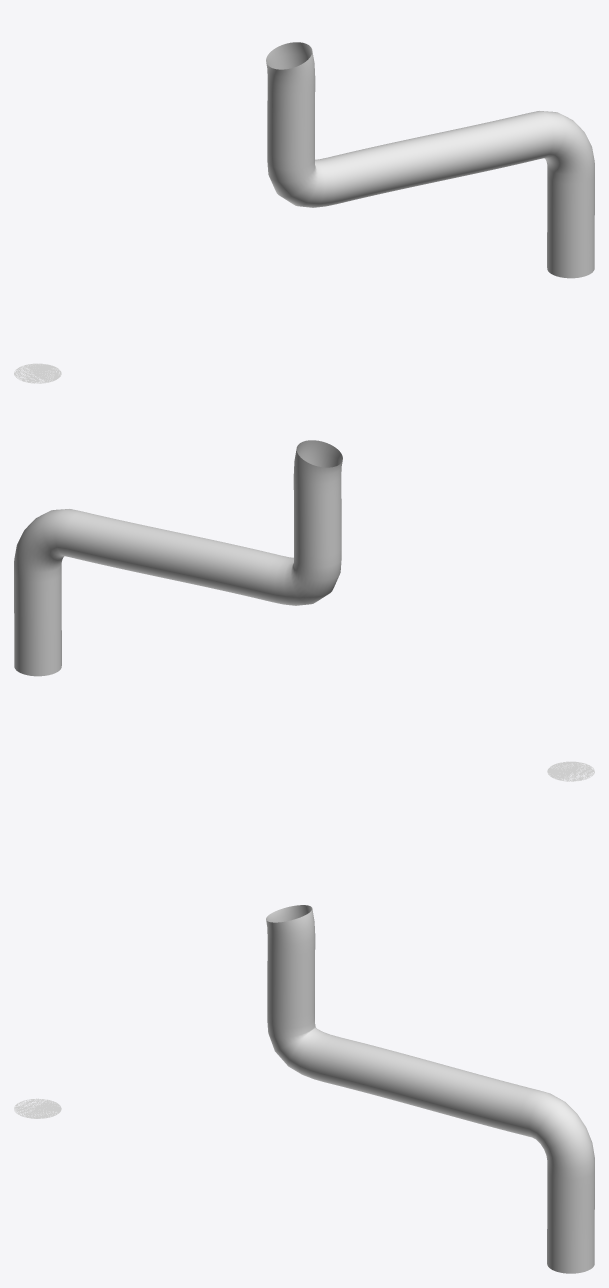
File: piple.glb
3 renders of one model, top to bottom at view 1: azimuth 30°, elevation 25°; view 2: azimuth 150°, elevation 25°; view 3: azimuth 330°, elevation 25°, orthographic.
Parts seen in each view (by area): view 1: Cylinder; view 2: Cylinder; view 3: Cylinder.
Part boxes in pixels (x1,y1,x2,y2): Cylinder: (14, 42, 594, 383); Cylinder: (14, 440, 594, 781); Cylinder: (14, 905, 594, 1273).
Bounding box in the file's own units: 27.81 × 15.13 × 2.
Materials: 1 (1 with a texture image).
